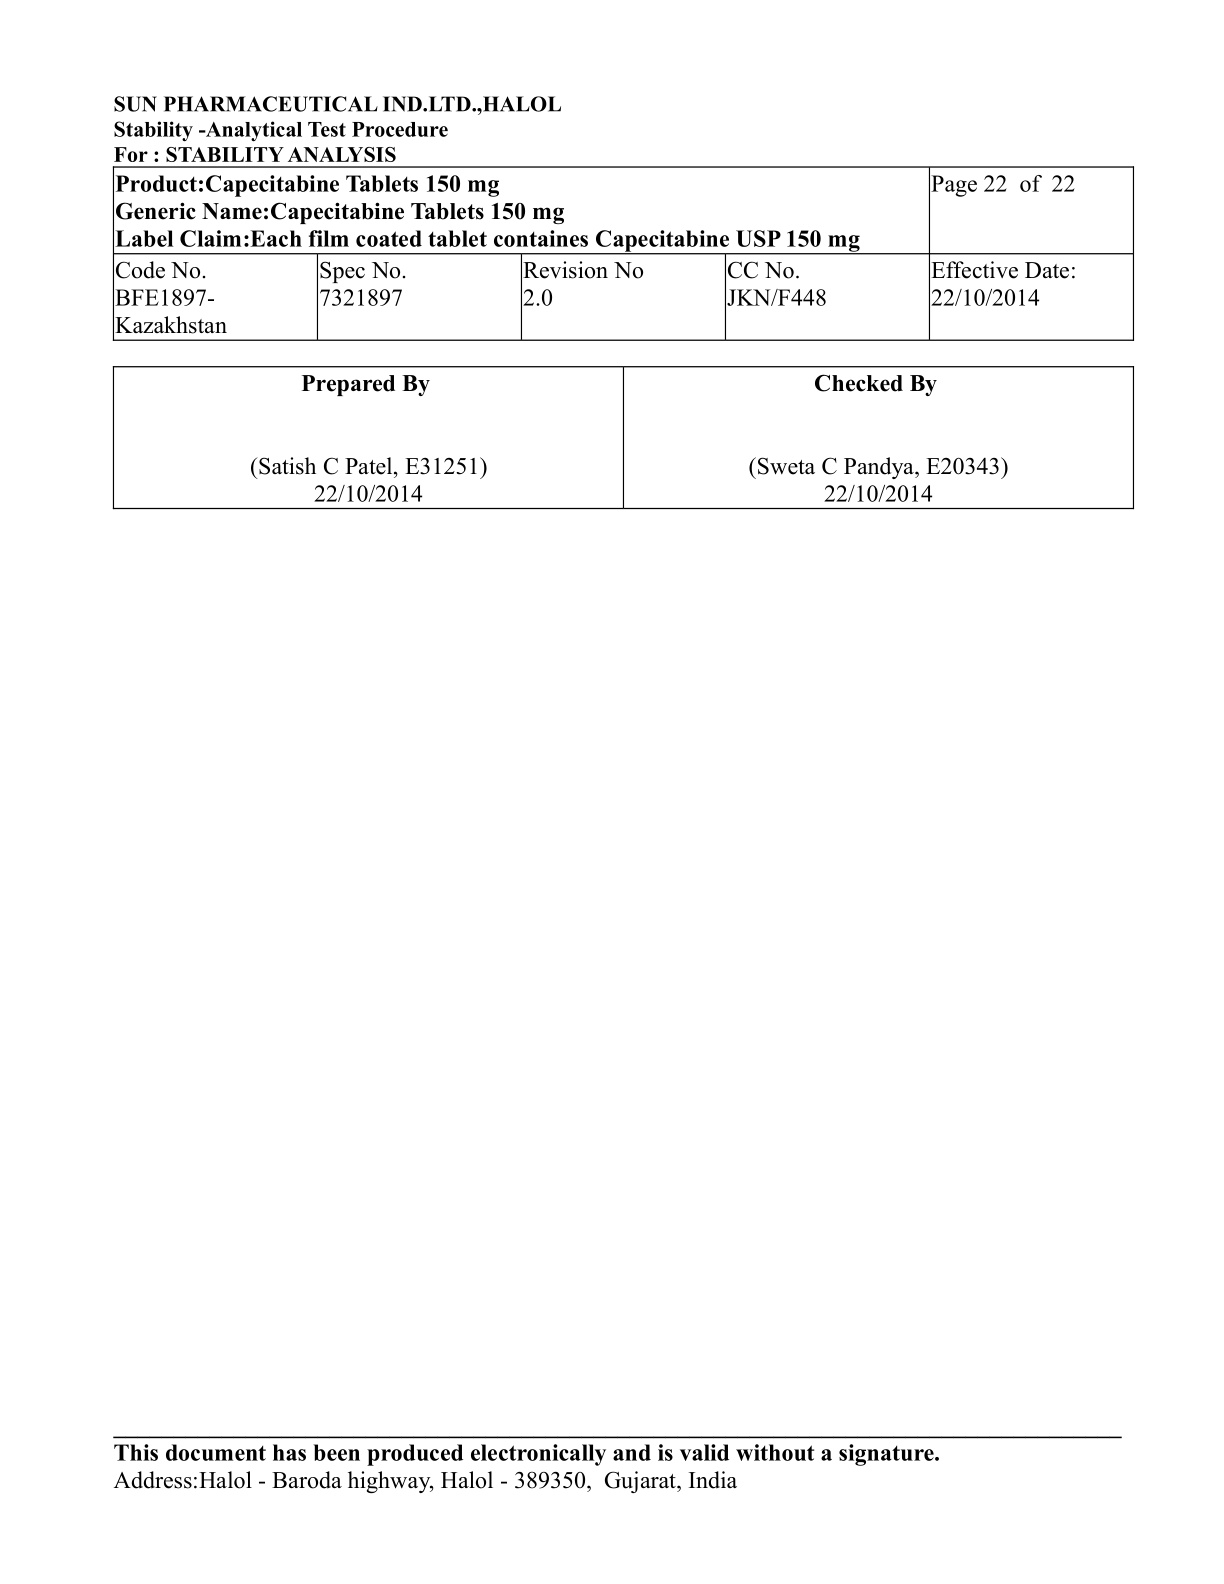full_lined: (111, 364, 1135, 510)
merged_cells: (112, 165, 1134, 342)
